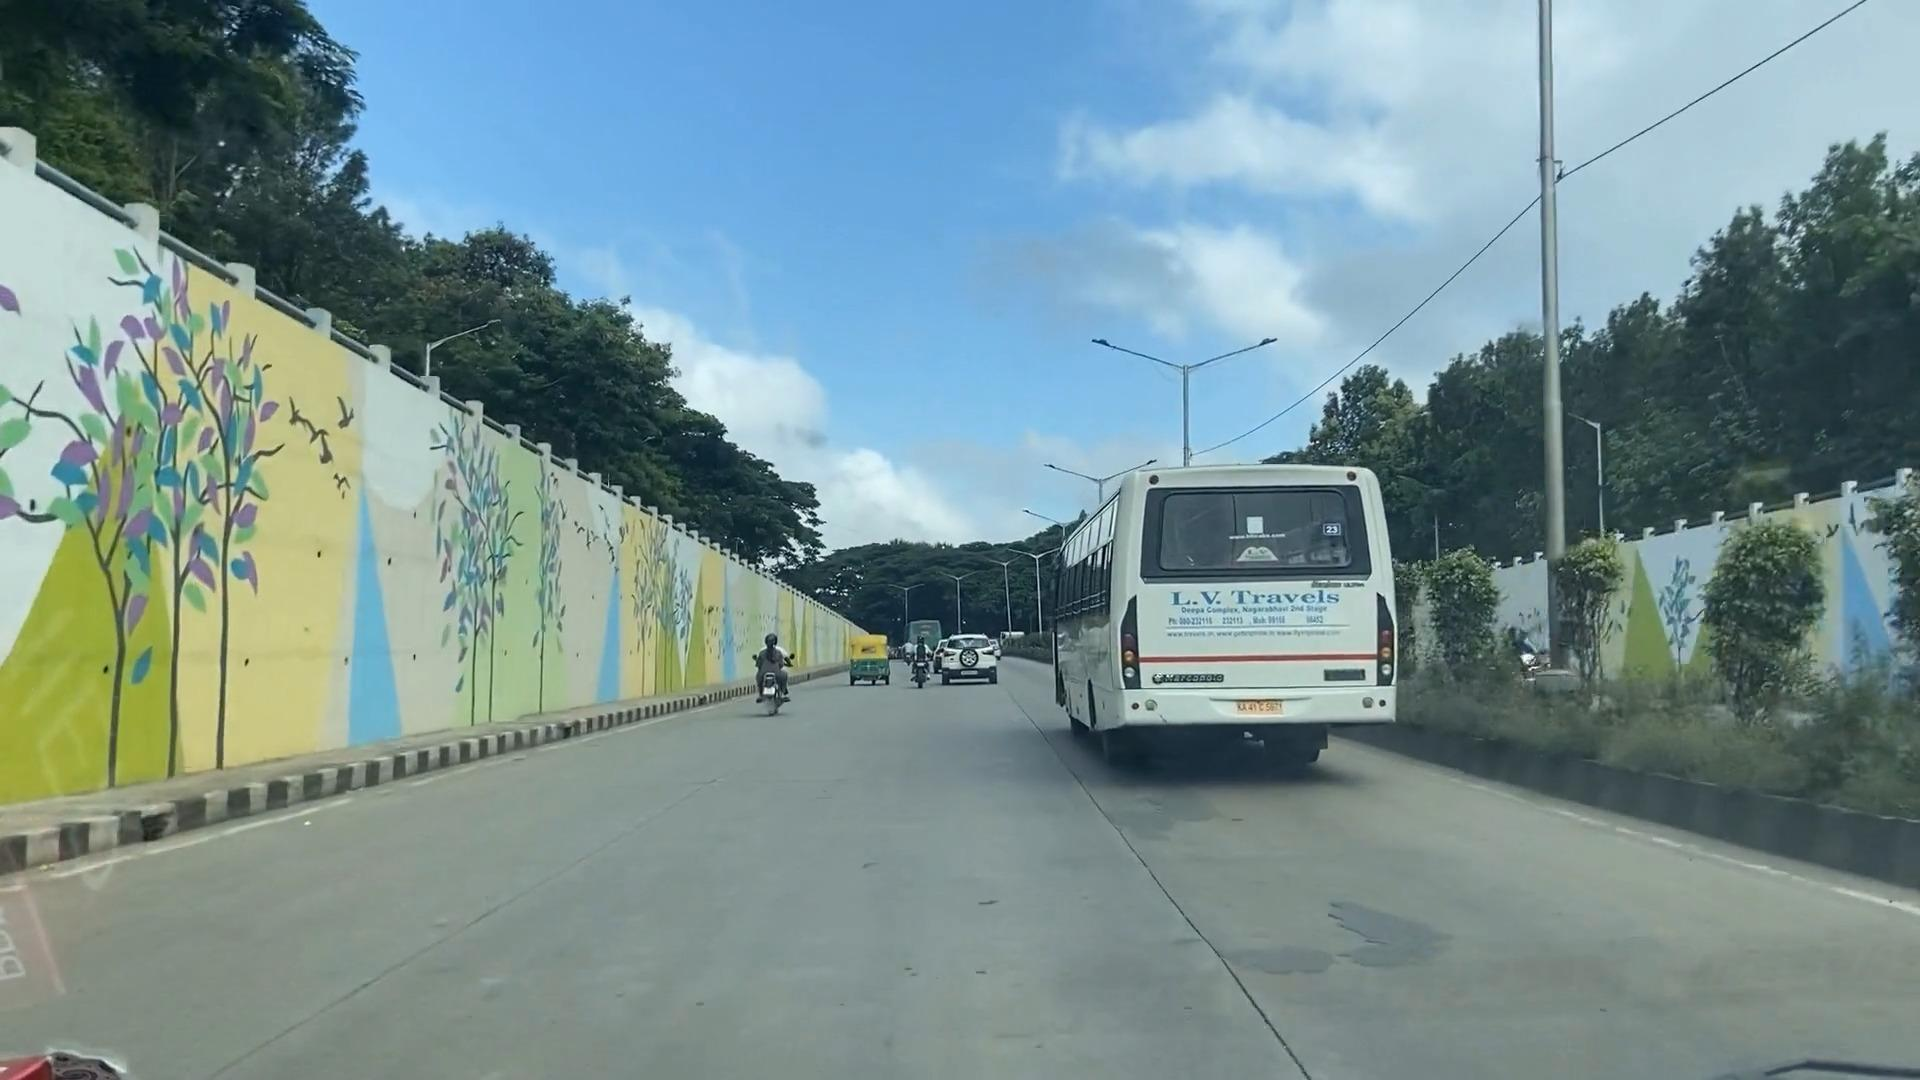HMV: (1048, 481, 1390, 757)
LMV: (754, 632, 787, 707)
UnsurfacedRoad: (1188, 893, 1452, 1039)
